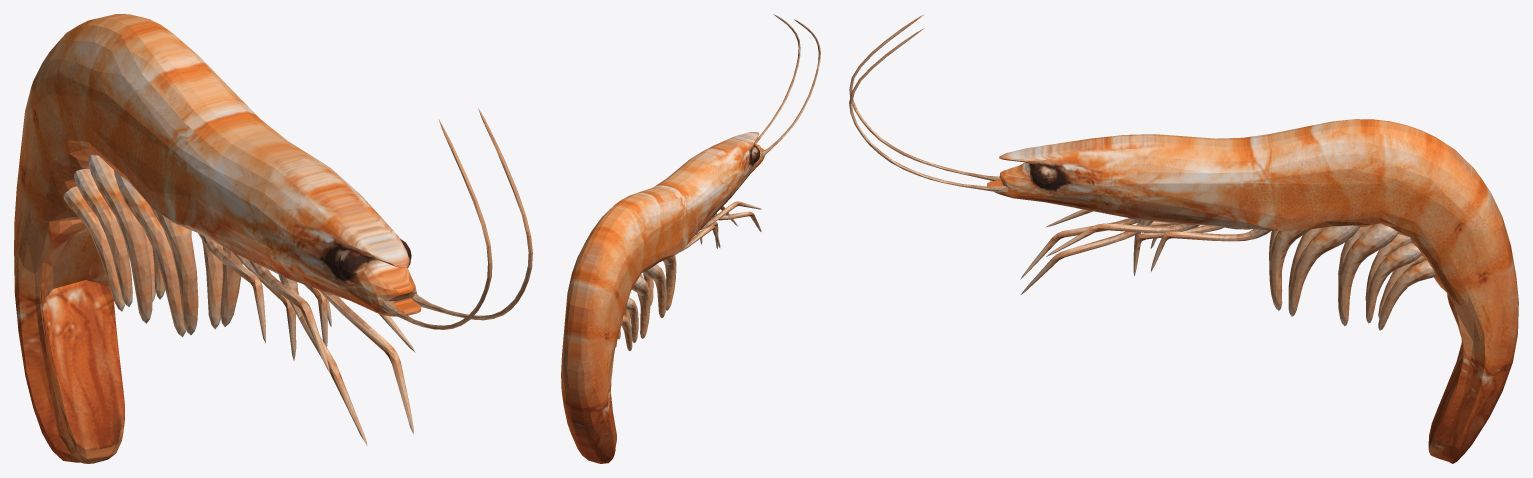
Rendered from Shrimp.obj.
The picture shows the model from 3 angles, left to right: view 1: azimuth 30°, elevation 25°; view 2: azimuth 150°, elevation 25°; view 3: azimuth 270°, elevation 25°; orthographic projection. The views are drawn at different scales.
Parts seen in each view (by area): view 1: Cube.003; view 2: Cube.003; view 3: Cube.003.
Part boxes in pixels (<box>): Cube.003: <box>14,14,532,463</box>; Cube.003: <box>561,14,820,463</box>; Cube.003: <box>849,14,1518,463</box>.
Size of the model in its own units: 0.5972 by 3.77 by 5.21.
Materials: 1 (1 with a texture image).
